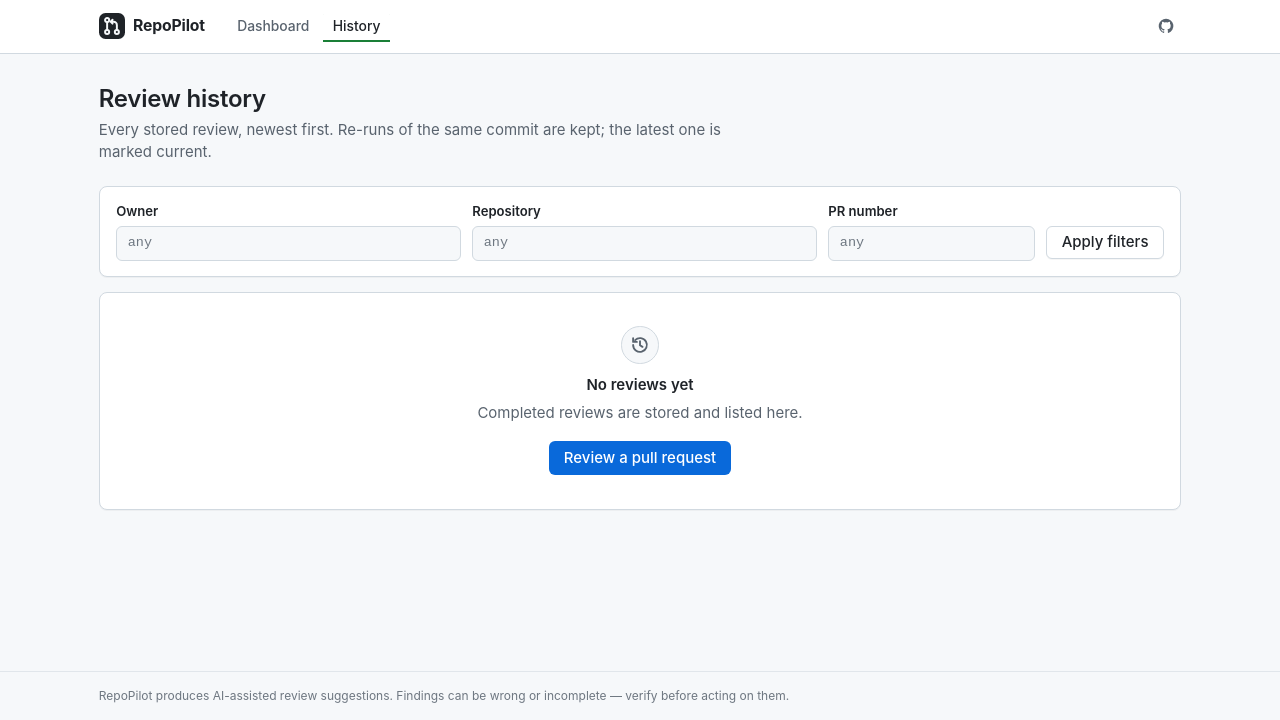
Scenario: ReviewHistoryPage › applies filters through the URL
Expected: the text "No reviews yet" is shown, x1=586 y1=374 x2=694 y2=397
Type "octo-org" into the field labelled "Owner".
click(289, 244); type("octo-org")  # box x1=116 y1=226 x2=461 y2=261
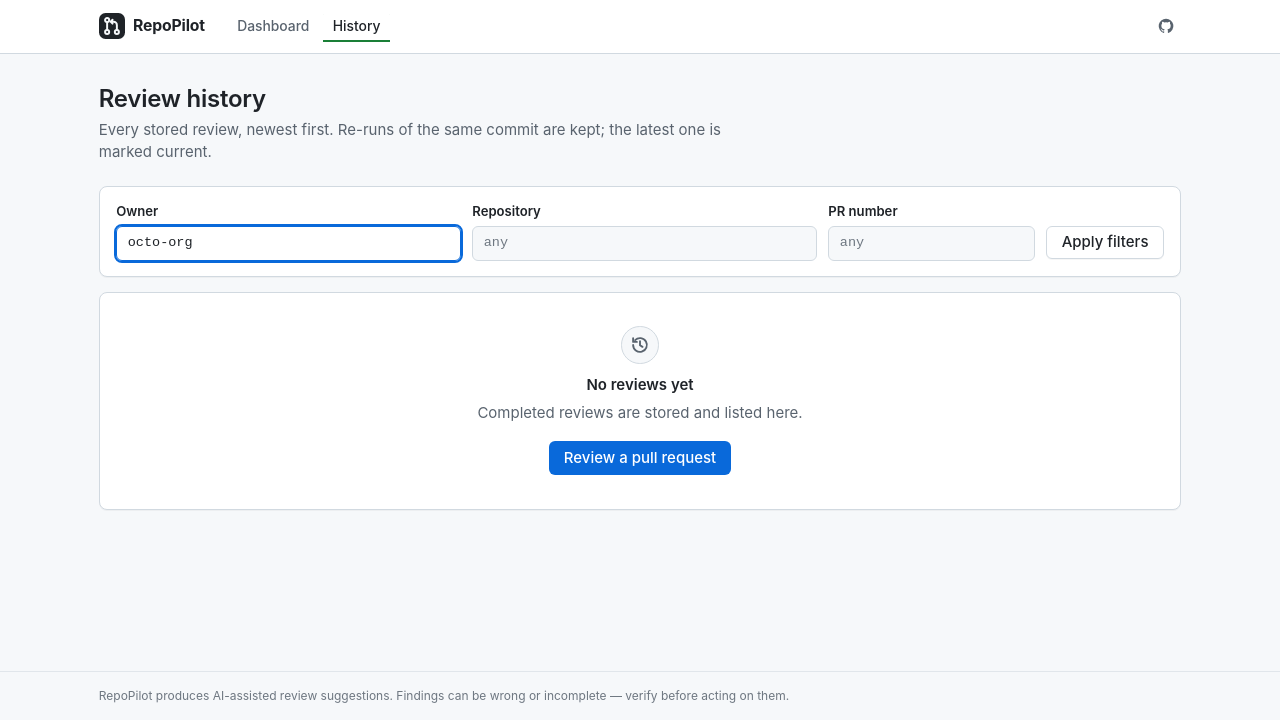
Type "42" into the field labelled "PR number".
click(932, 244); type("42")  # box x1=828 y1=226 x2=1035 y2=261
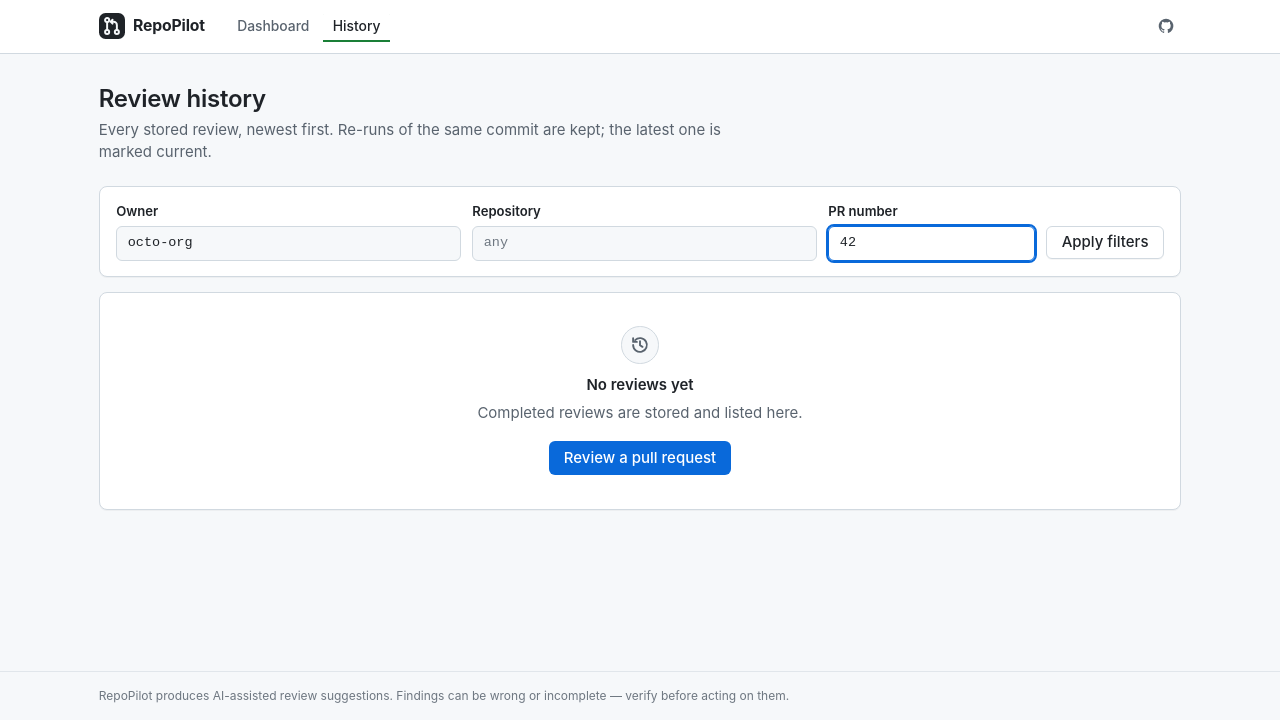
Click the button "Apply filters".
click(1105, 242)  # box x1=1046 y1=226 x2=1164 y2=259
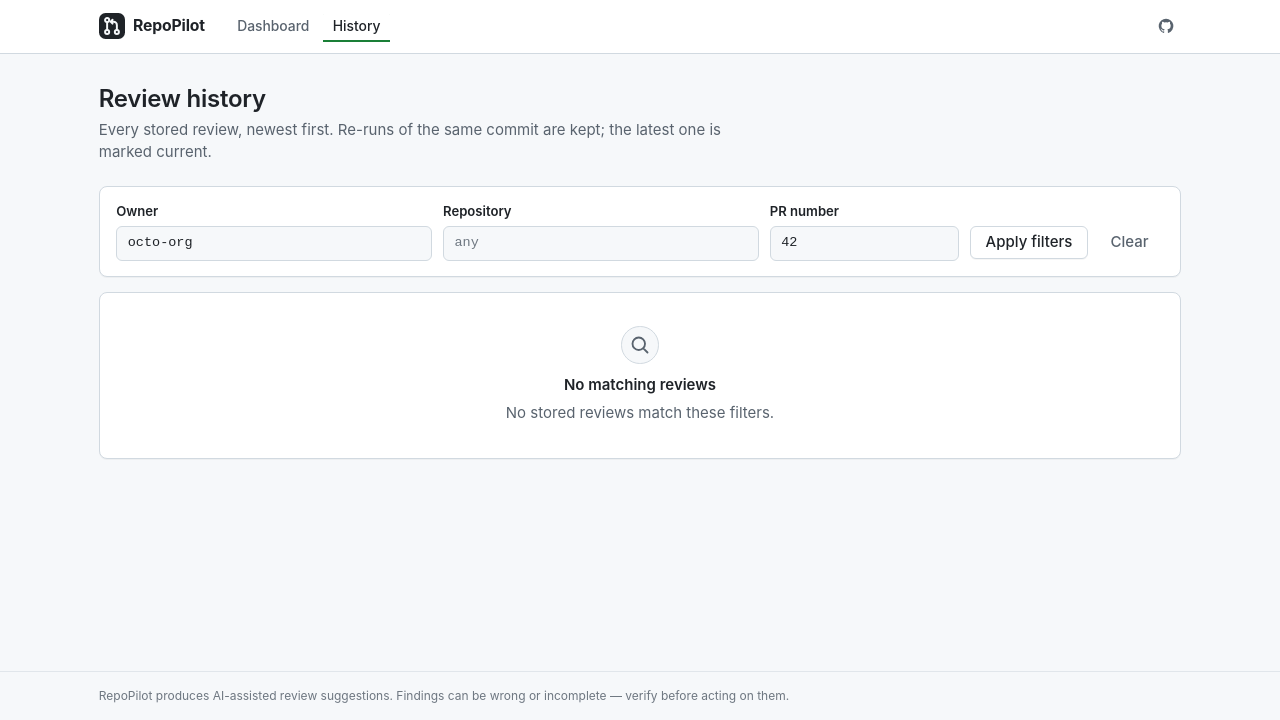
Result: the text "No matching reviews" is shown at x1=564 y1=374 x2=716 y2=397
